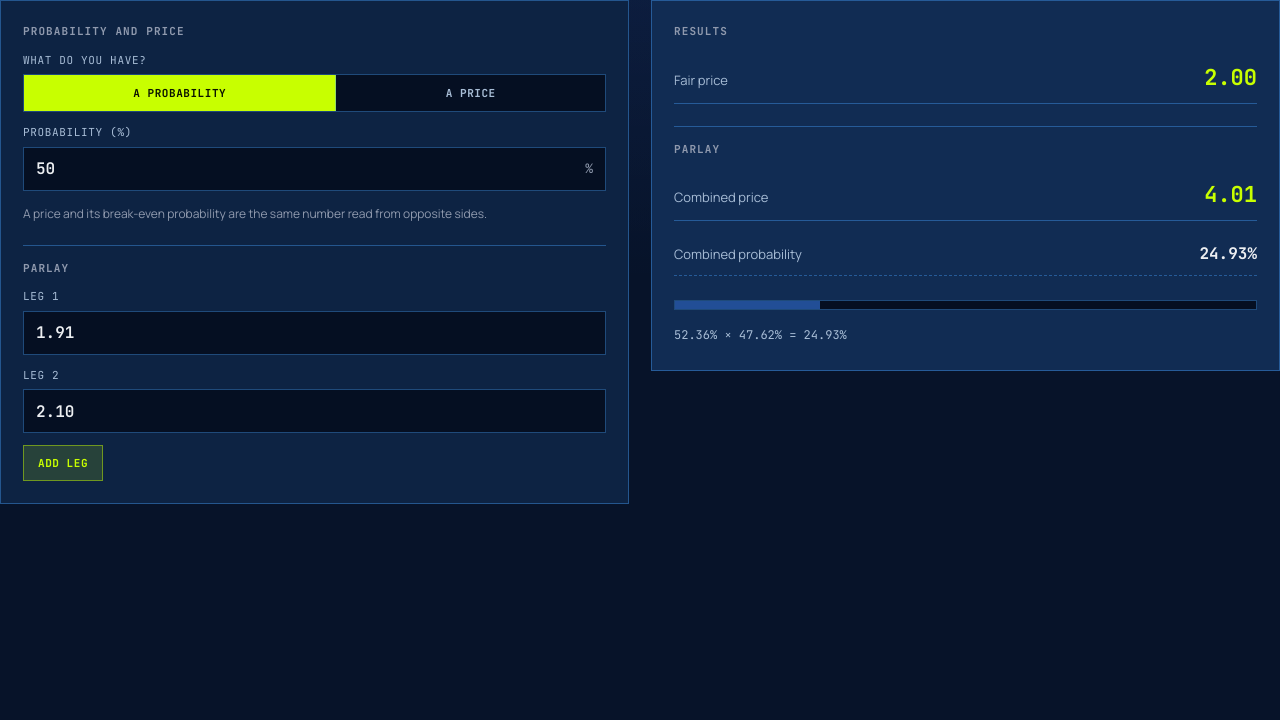
Test: probability calculator › tre gambe da 2.00 fanno 8.00 e 12.50%
This screenshot has width=1280, height=720.
In the field labelled "Leg 1": (314, 332) [24,312,605,354], type "2.00"
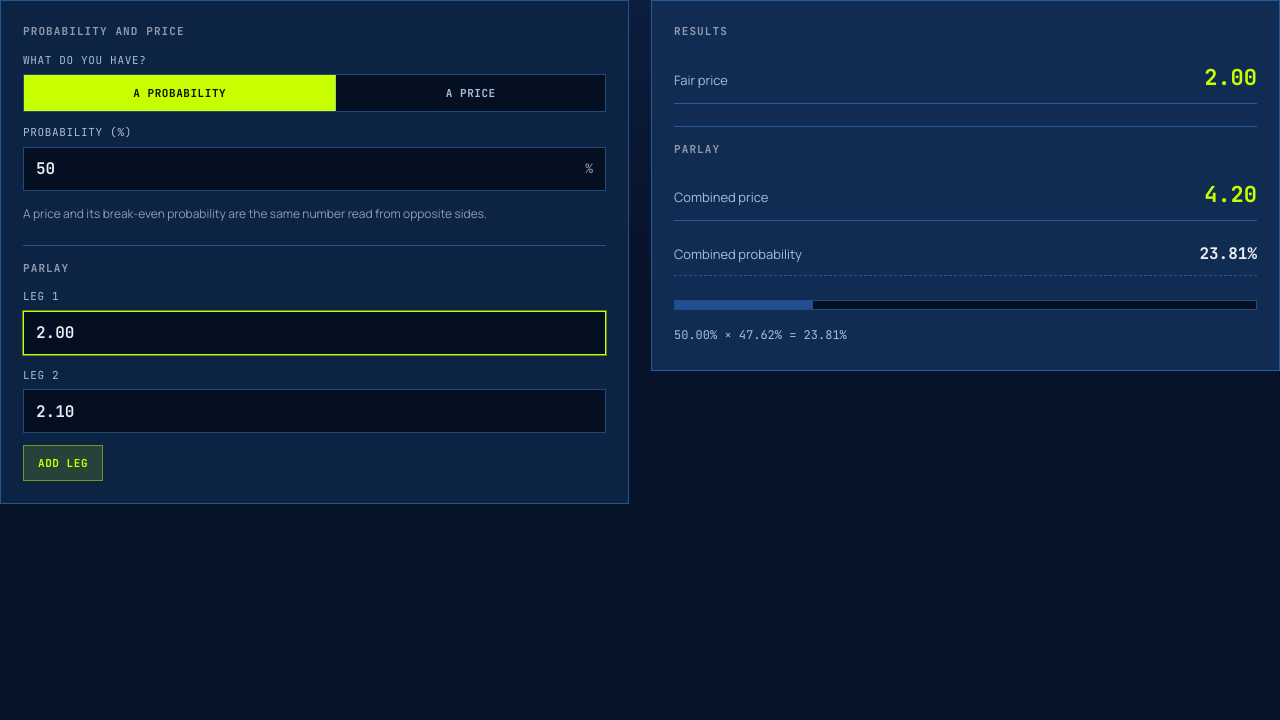
Replace the text in the field labelled "Leg 2" with "2.00": (314, 411) [24,390,605,432]
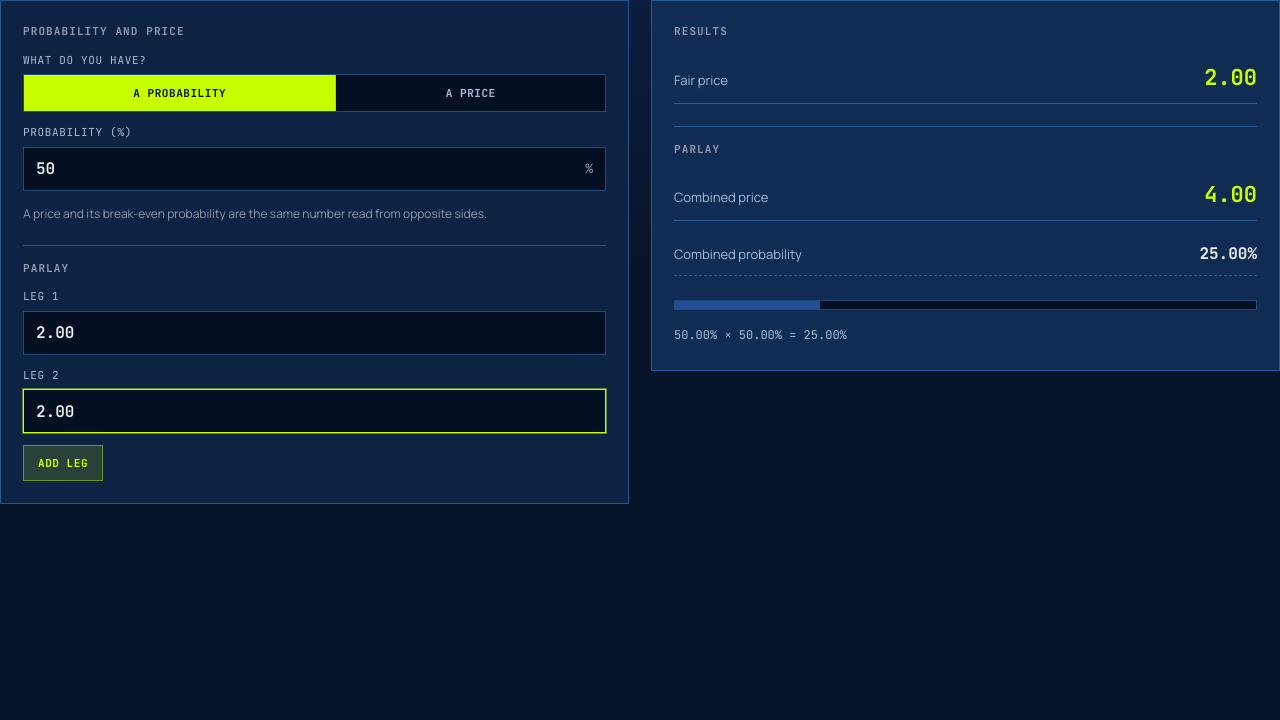
Click the button "Add leg": (63, 463) [23,445,103,481]
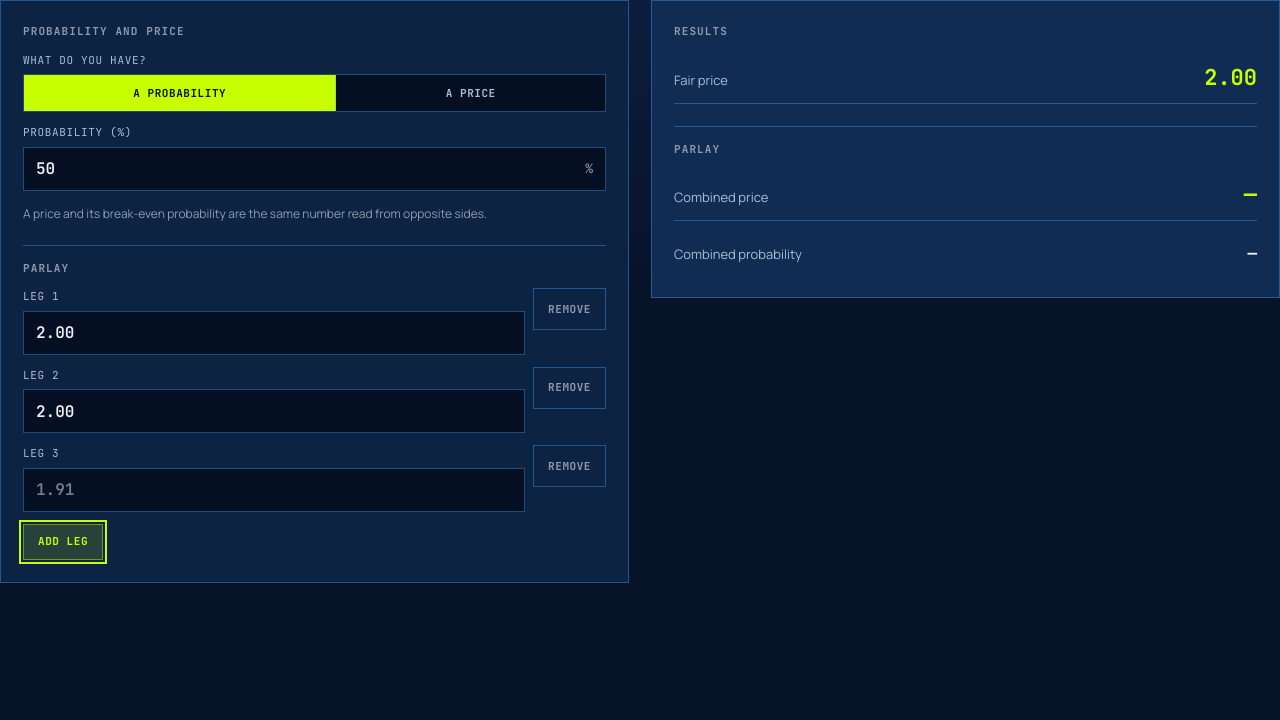
In the field labelled "Leg 3": (274, 490) [24,468,524,510], type "2.00"
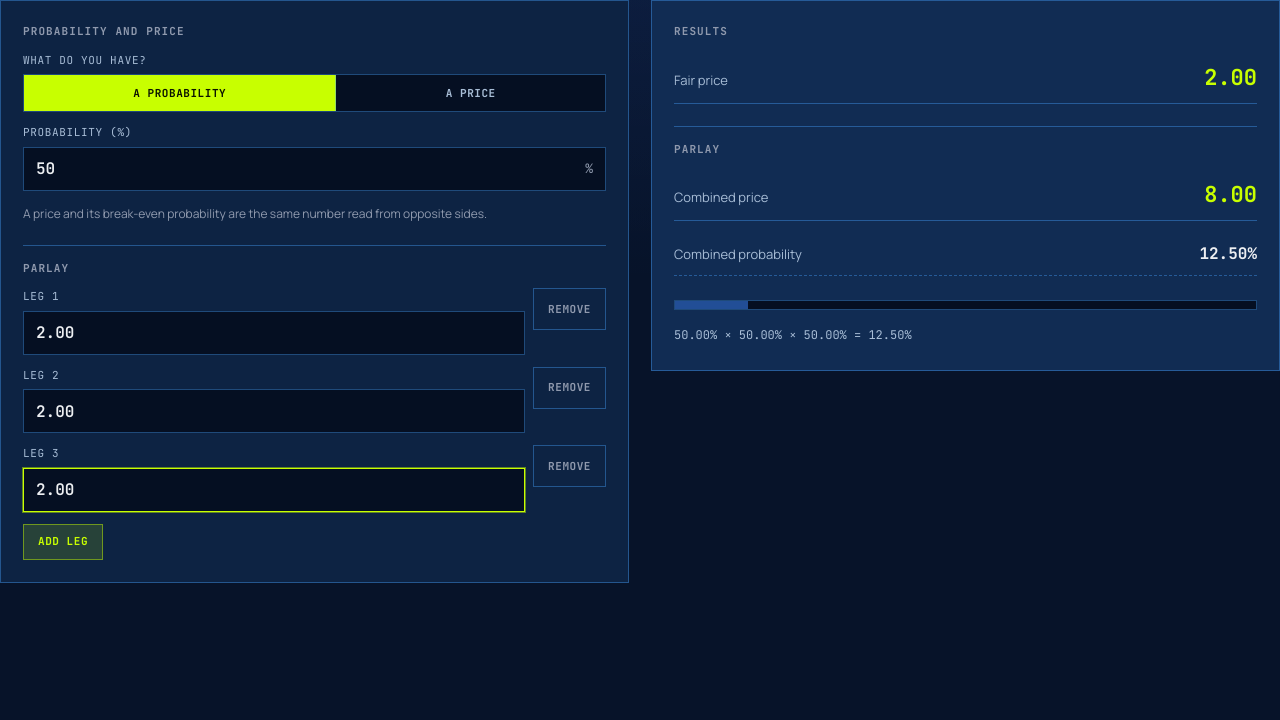
Expected: the text with test id "out-parlay-odds" reads "8.00", [1204,180,1257,209]
Expected: the text with test id "out-parlay-prob" reads "12.50%", [1199,243,1257,264]
